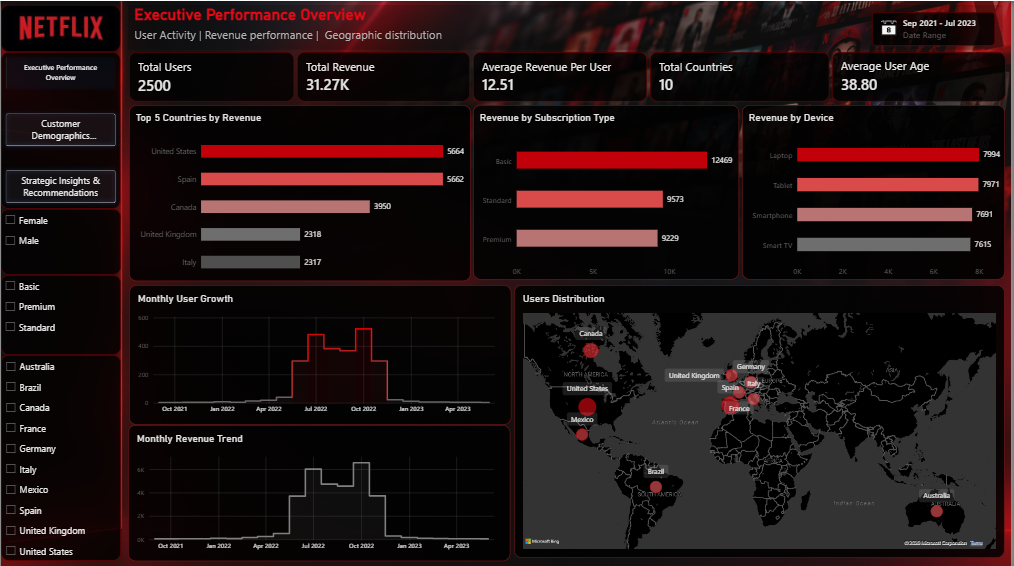

The dashboard page shown, as its layout file describes it:
{"tool":"powerbi","page":{"name":"Executive  Performance Overview","canvas":[1920,1080],"ordinal":0},"visuals":[{"type":"cardVisual","title":"Total Revenue","fields":{"Data":["measures (2).total_revenue"]},"box":[562.8,97,329,94],"z":0},{"type":"cardVisual","title":"Average Revenue Per User","fields":{"Data":["measures (2).avg_rpu"]},"box":[897.5,97,331,94],"z":1000},{"type":"cardVisual","title":"Total Countries","fields":{"Data":["measures (2).number_of_countries"]},"box":[1234,97,341,94],"z":2000},{"type":"barChart","title":"Top 5 Countries by Revenue ","fields":{"Category":["netflix_db country_table.country_name"],"Y":["measures (2).total_revenue"]},"box":[243.4,197.7,650,335],"z":3000},{"type":"slicer","title":"Gender","fields":{"Values":["netflix_db gender_table.gender"]},"box":[0,395.4,228.2,125.5],"z":4000},{"type":"slicer","title":"Subscription Type ","fields":{"Values":["netflix_db subscription_table.subscription_type"]},"box":[0,521,228.2,152.1],"z":5000},{"type":"slicer","title":"Country Name","fields":{"Values":["netflix_db country_table.country_name"]},"box":[0,673.1,228.2,391],"z":6000},{"type":"textbox","title":"Executive  Performance Overview","box":[242.4,8.5,1662.5,85],"z":7000},{"type":"barChart","title":"Revenue by Subscription Type","fields":{"Category":["netflix_db subscription_table.subscription_type"],"Y":["measures (2).total_revenue"]},"box":[897.5,197.7,506,332],"z":8000},{"type":"barChart","title":"Revenue by Device","fields":{"Category":["netflix_db device_table.device_name"],"Y":["measures (2).total_revenue"]},"box":[1409.5,197.7,499.6,331.7],"z":9000},{"type":"cardVisual","title":"    Total Users","fields":{"Data":["measures (2).total_users"]},"box":[243.4,97,314,94],"z":10000},{"type":"map","title":"Users Distribution","fields":{"Category":["netflix_db country_table.country_name"],"Series":["netflix_db country_table.country_name"],"Size":["measures (2).total_users"]},"box":[975.8,540,933.3,518.7],"z":11000},{"type":"lineChart","title":"Monthly User Growth","fields":{"Category":["Date_Table.Date.Variation.Date Hierarchy.Year","Date_Table.Date.Variation.Date Hierarchy.Quarter","Date_Table.Date.Variation.Date Hierarchy.Month","Date_Table.Date.Variation.Date Hierarchy.Day"],"Y":["measures (2).total_users"]},"box":[243.4,540,727,266.2],"z":12000},{"type":"lineChart","title":"Monthly Revenue Trend","fields":{"Category":["Date_Table.Date.Variation.Date Hierarchy.Year","Date_Table.Date.Variation.Date Hierarchy.Quarter","Date_Table.Date.Variation.Date Hierarchy.Month","Date_Table.Date.Variation.Date Hierarchy.Day"],"Y":["measures (2).total_revenue"]},"box":[242.4,805.7,727.1,259.4],"z":13000},{"type":"cardVisual","title":"Average User Age","fields":{"Data":["measures (2).avg_user_age"]},"box":[1579.6,97.8,329.5,93.5],"z":14000},{"type":"pageNavigator","box":[0,97.8,227.5,297.6],"z":15000},{"type":"image","box":[0,8.5,227.5,89.3],"z":16000},{"type":"cardVisual","fields":{"Data":["measures (2).Date Range"]},"box":[1656.1,21.3,233.9,63.8],"z":17000}]}

Visuals, with their boxes on the page's 1920x1080 design canvas (x1, y1, x2, y2). These are canvas units, not pixel positions in the 1014x566 screenshot, which may show the page scaled, cropped or inside an application window:
"Total Revenue" cardVisual: 563, 97, 892, 191
"Average Revenue Per User" cardVisual: 898, 97, 1228, 191
"Total Countries" cardVisual: 1234, 97, 1575, 191
"Top 5 Countries by Revenue " barChart: 243, 198, 893, 533
"Gender" slicer: 0, 395, 228, 521
"Subscription Type " slicer: 0, 521, 228, 673
"Country Name" slicer: 0, 673, 228, 1064
"Executive  Performance Overview" textbox: 242, 8, 1905, 94
"Revenue by Subscription Type" barChart: 898, 198, 1404, 530
"Revenue by Device" barChart: 1410, 198, 1909, 529
"    Total Users" cardVisual: 243, 97, 557, 191
"Users Distribution" map: 976, 540, 1909, 1059
"Monthly User Growth" lineChart: 243, 540, 970, 806
"Monthly Revenue Trend" lineChart: 242, 806, 970, 1065
"Average User Age" cardVisual: 1580, 98, 1909, 191
pageNavigator: 0, 98, 228, 395
image: 0, 8, 228, 98
cardVisual - measures (2).Date Range: 1656, 21, 1890, 85
